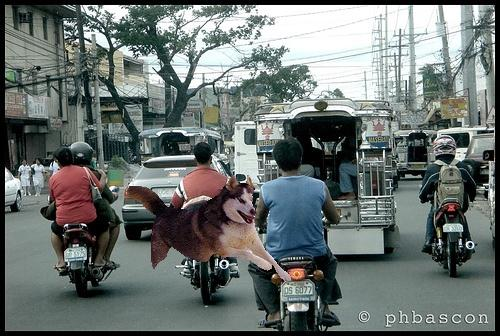tampered: (127, 175, 291, 281)
